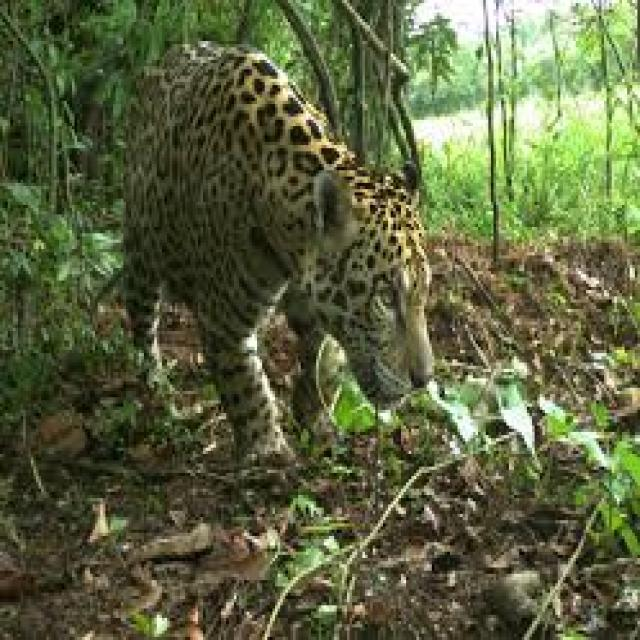Jaguar: (116, 38, 440, 470)
